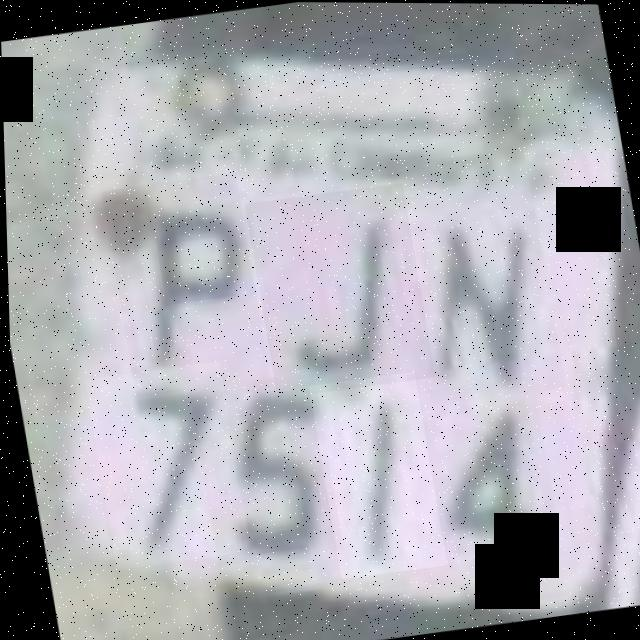1: (306, 371, 444, 580)
4: (392, 374, 562, 585)
5: (186, 372, 341, 568)
7: (82, 360, 248, 570)
J: (243, 181, 434, 398)
N: (377, 188, 564, 409)
P: (100, 172, 268, 398)
